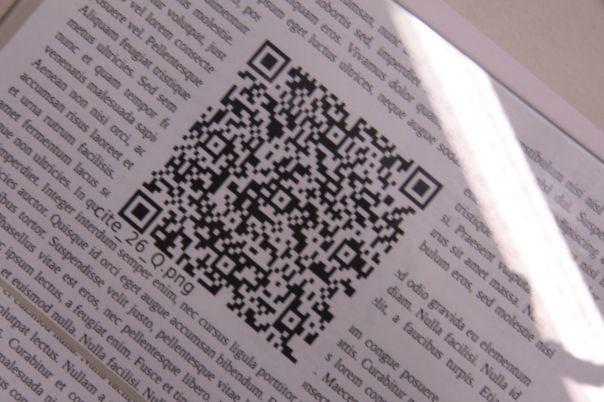Finder pattern: (398, 164, 442, 210), (245, 41, 293, 83), (120, 190, 162, 236)
